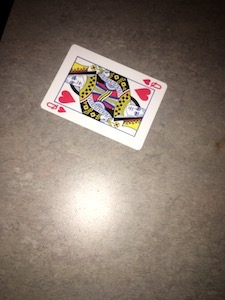QueenOfHearts: (37, 42, 172, 156)
